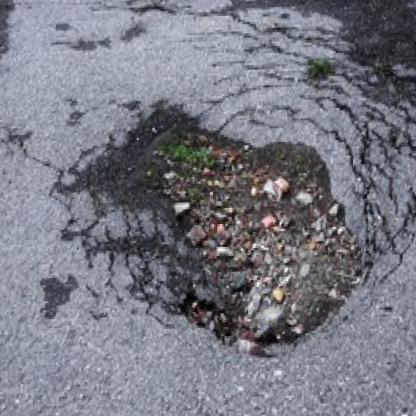pothole: (132, 98, 366, 359)
